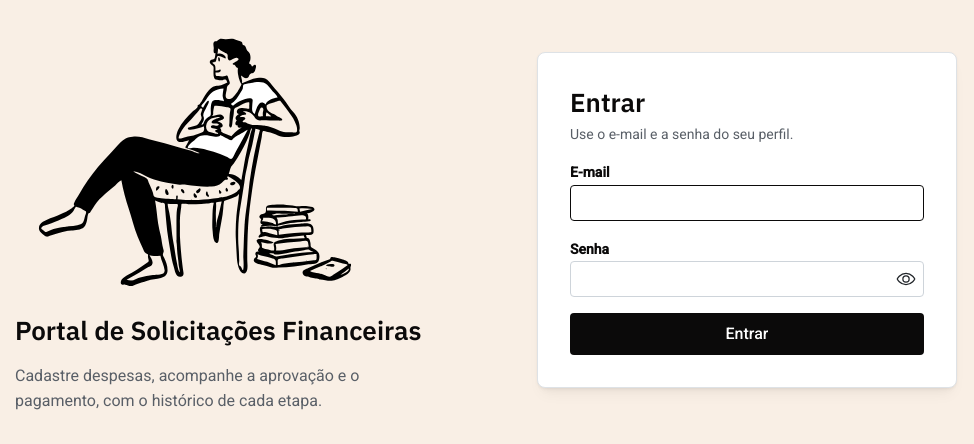
LoginPage › invalid credentials show a message without saying which field was wrong
In the field labelled "E-mail": (747, 203) 570,185 -> 924,221, type "solicitante@gex.test"
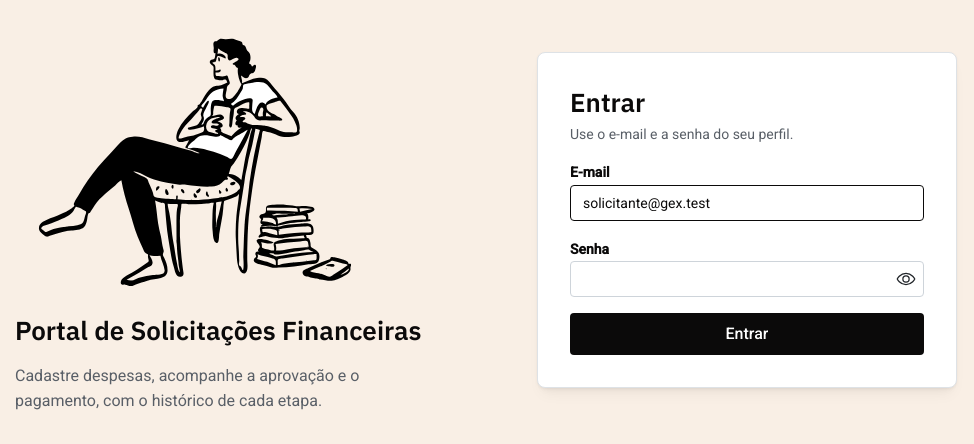
In the password field labelled "Senha": (747, 280) 571,262 -> 923,296, type "senha-errada"
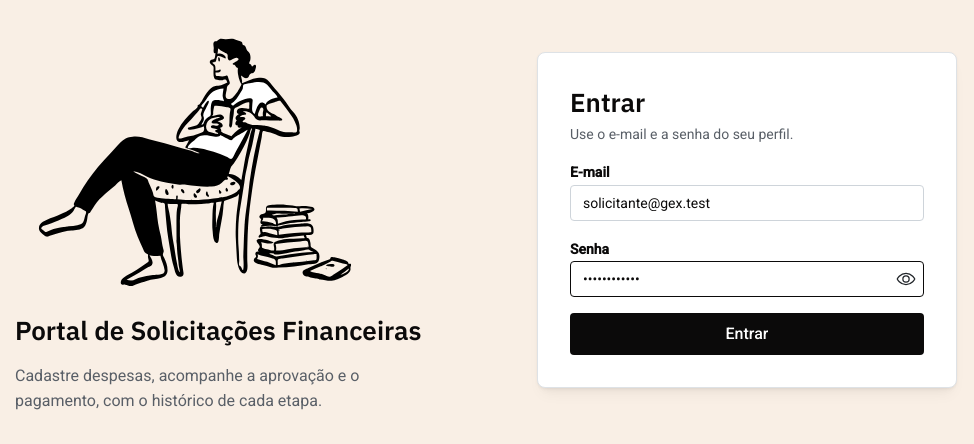
Click the button "Entrar": (747, 334) 570,314 -> 924,356
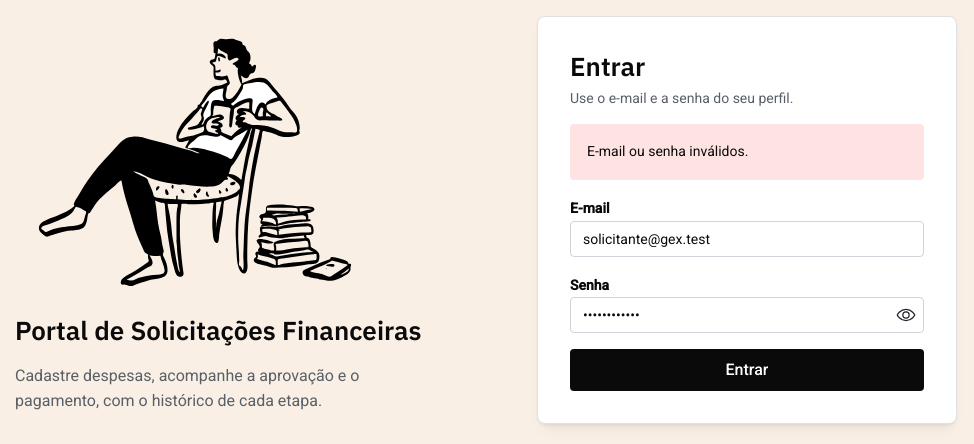
Now the message reads "E-mail ou senha inválidos.", box 587,143 -> 748,159
